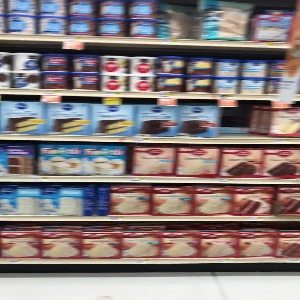void: (218, 97, 265, 138)
